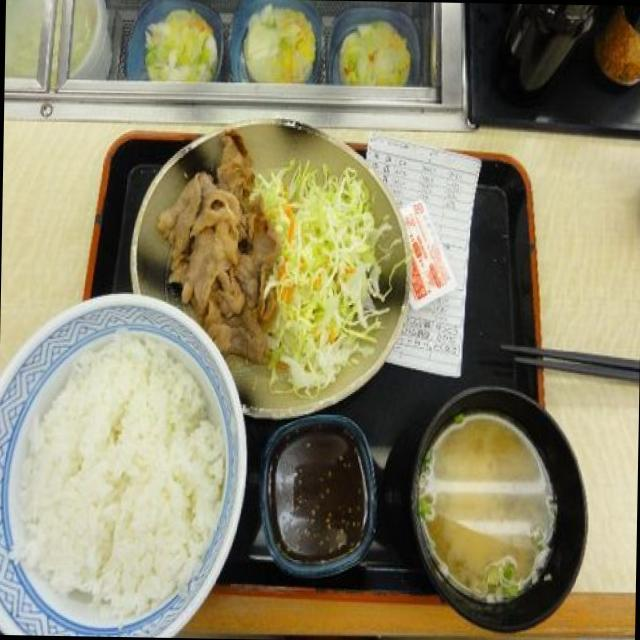Green Salad: (271, 172, 387, 376)
Rice: (9, 332, 217, 602)
